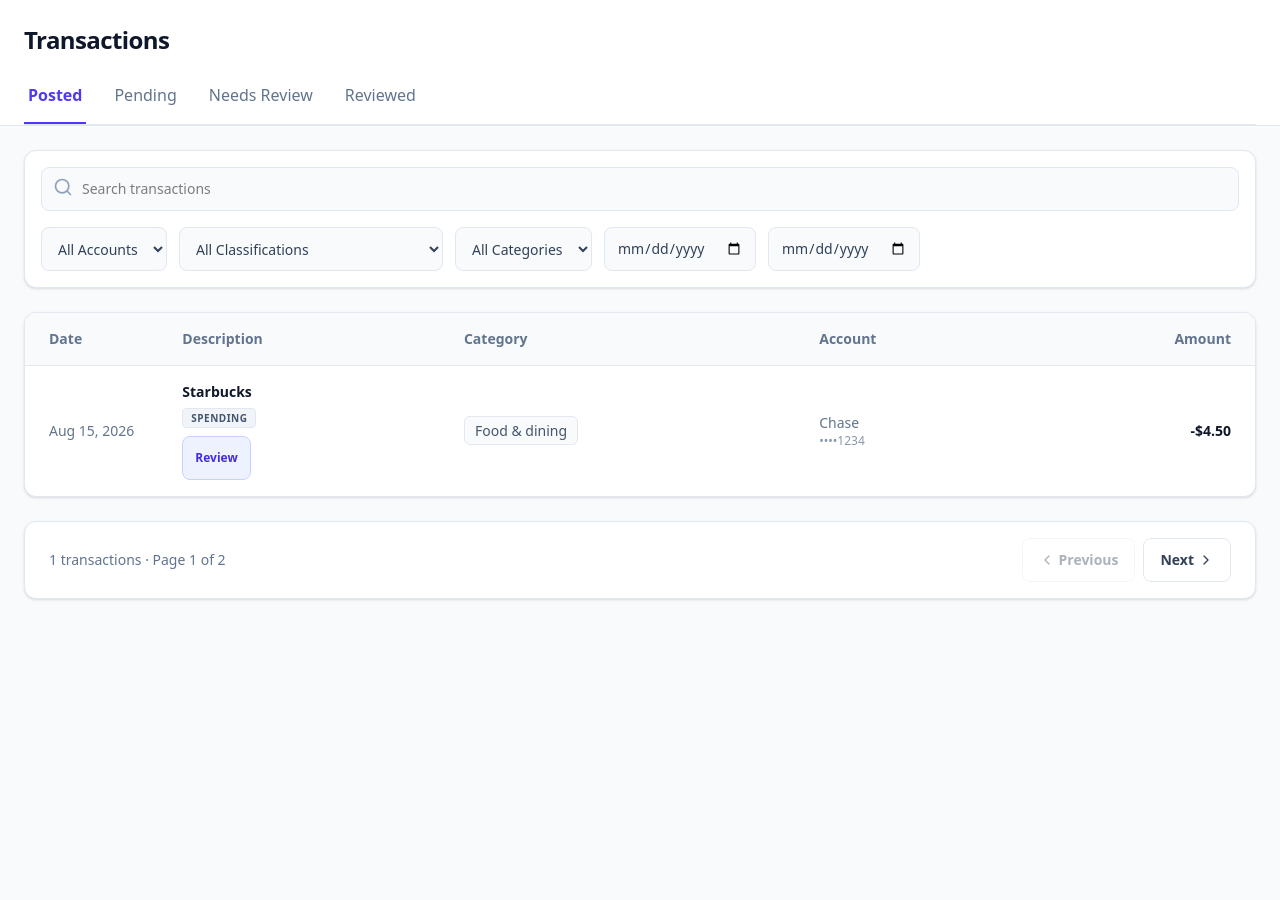
TransactionsPage › requests both review classifications before server pagination
Click the button "Needs Review" at (261, 102), box x1=205 y1=80 x2=317 y2=124
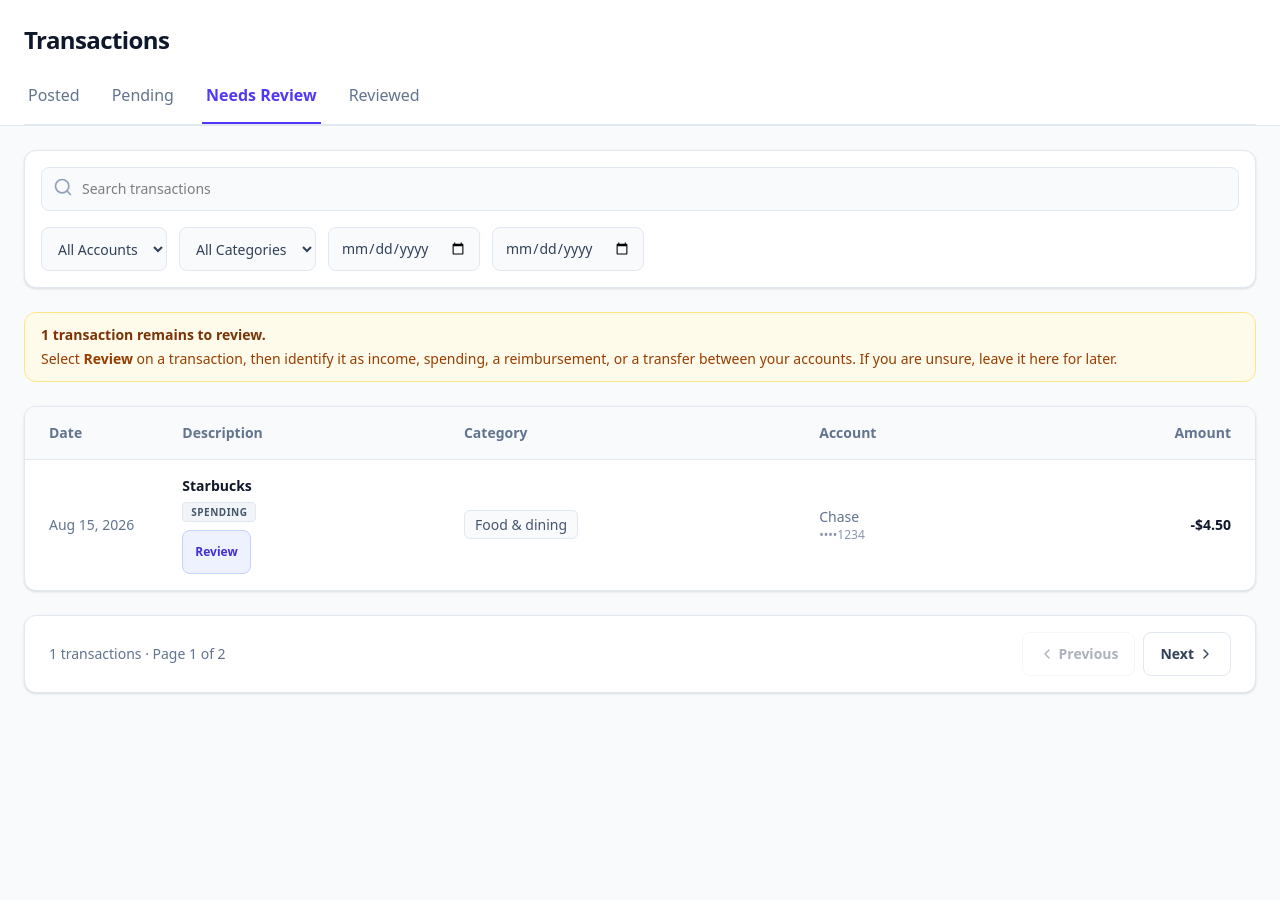
Expected: the text "1 transaction remains to review." is shown, x1=41 y1=325 x2=266 y2=344
